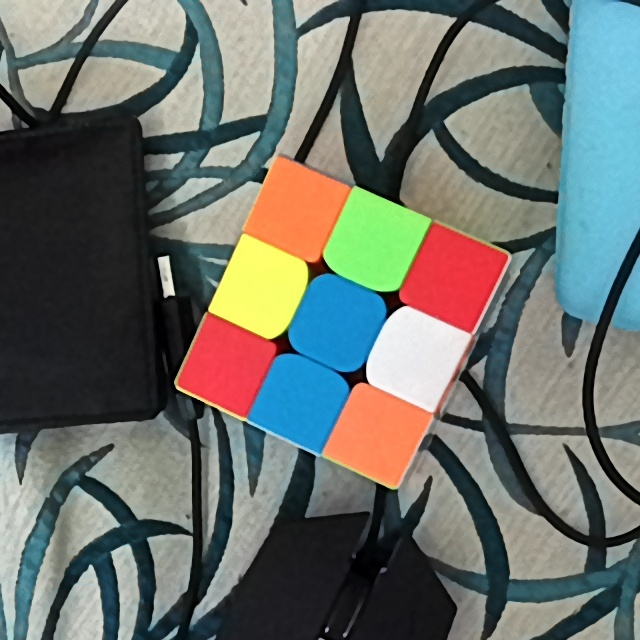tile: (307, 289, 369, 353), (423, 247, 485, 309), (263, 181, 325, 241), (347, 402, 407, 463), (385, 327, 444, 388), (343, 214, 402, 274), (269, 374, 331, 429), (200, 337, 255, 392), (229, 266, 287, 316)
